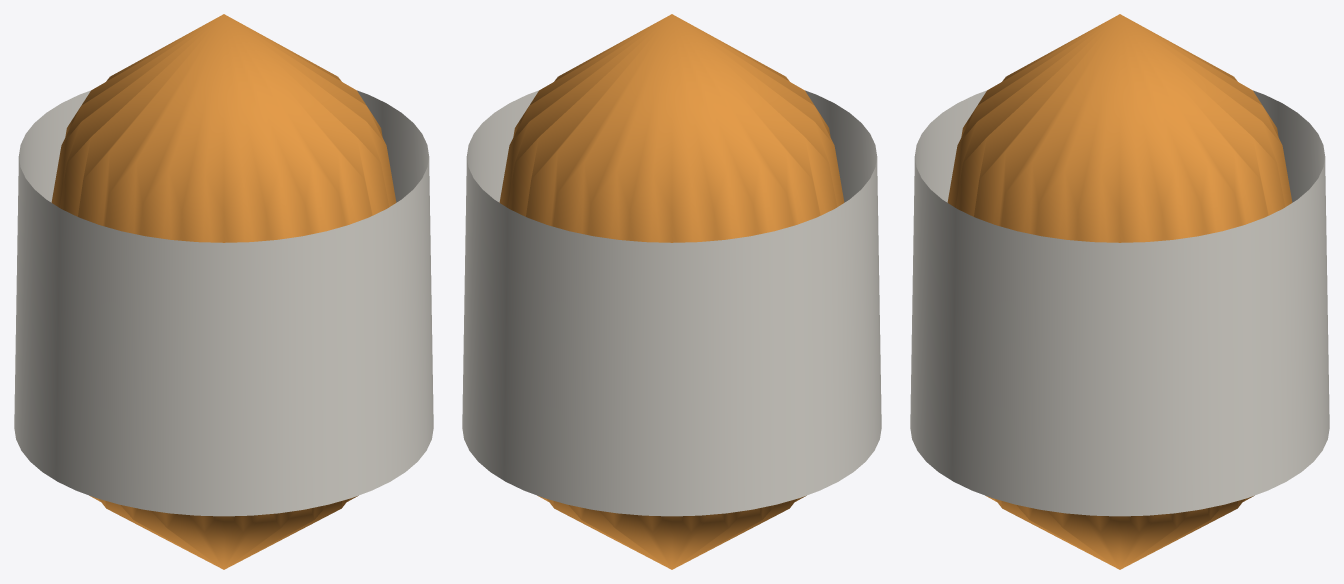
Rendered from prop_jar_marmalade.glb.
3 renders of one model, left to right at view 1: azimuth 30°, elevation 25°; view 2: azimuth 150°, elevation 25°; view 3: azimuth 270°, elevation 25°, orthographic.
Visible parts, largest first — view 1: Jar_Label, prop_jar_marmalade; view 2: Jar_Label, prop_jar_marmalade; view 3: Jar_Label, prop_jar_marmalade.
Boxes of the visible parts, x1,y1,x2,y2 form: Jar_Label: (14, 90, 433, 516); prop_jar_marmalade: (51, 14, 396, 569); Jar_Label: (462, 90, 881, 516); prop_jar_marmalade: (499, 14, 844, 569); Jar_Label: (910, 90, 1329, 516); prop_jar_marmalade: (947, 14, 1292, 569).
Size of the model in its own units: 0.091 by 0.133 by 0.091.
